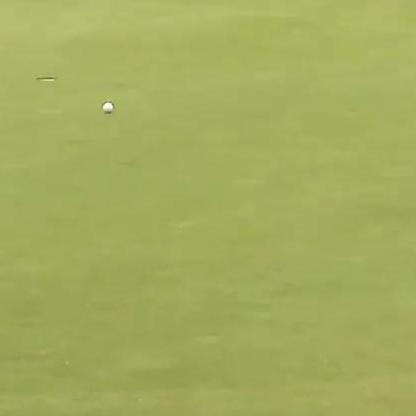golfball: (101, 101, 112, 113)
